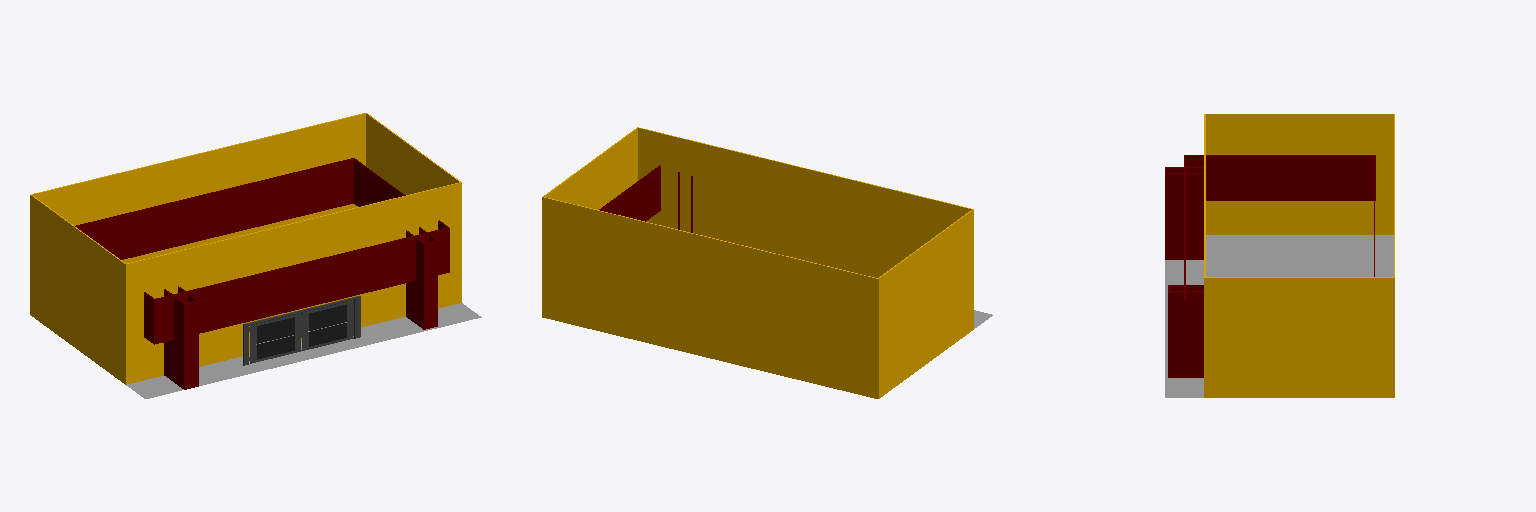
File: CGTI1.obj
The picture shows the model from 3 angles: view 1: azimuth 30°, elevation 25°; view 2: azimuth 150°, elevation 25°; view 3: azimuth 270°, elevation 25°; orthographic projection.
Parts seen in each view (by area): view 1: wall_2_11, wall_4_22, wall_3_17, wall_7_40, wall_5_29, ground_1, wall_1_4, wall_10_59, wall_6_35, sweethome3d_window_pa_sweethome3d_window_pa_Glass_119, sweethome3d_window_sweethome3d_window_Glass_121, wall_16_95 (+5 smaller); view 2: wall_4_23, wall_2_10, wall_3_17, wall_1_4, wall_6_35; view 3: wall_1_5, wall_3_16, ground_1, wall_8_47, wall_11_65, wall_18_107, wall_6_34, wall_12_71.
Boxes of the visible parts, x1=… form: wall_2_11: x1=126, y1=183, x2=461, y2=384; wall_4_22: x1=33, y1=113, x2=365, y2=263; wall_3_17: x1=30, y1=195, x2=125, y2=384; wall_7_40: x1=154, y1=228, x2=449, y2=344; wall_5_29: x1=75, y1=159, x2=353, y2=259; ground_1: x1=126, y1=303, x2=481, y2=398; wall_1_4: x1=366, y1=114, x2=458, y2=194; wall_10_59: x1=184, y1=301, x2=198, y2=389; wall_6_35: x1=354, y1=159, x2=446, y2=229; sweethome3d_window_pa_sweethome3d_window_pa_Glass_119: x1=309, y1=304, x2=346, y2=346; sweethome3d_window_sweethome3d_window_Glass_121: x1=257, y1=317, x2=294, y2=359; wall_16_95: x1=424, y1=241, x2=437, y2=329; wall_4_23: x1=542, y1=197, x2=877, y2=398; wall_2_10: x1=638, y1=128, x2=971, y2=277; wall_3_17: x1=878, y1=210, x2=973, y2=398; wall_1_4: x1=544, y1=128, x2=637, y2=209; wall_6_35: x1=600, y1=166, x2=660, y2=221; wall_1_5: x1=1204, y1=278, x2=1394, y2=397; wall_3_16: x1=1206, y1=114, x2=1393, y2=234; ground_1: x1=1165, y1=235, x2=1393, y2=397; wall_8_47: x1=1186, y1=156, x2=1375, y2=200; wall_11_65: x1=1165, y1=174, x2=1203, y2=259; wall_18_107: x1=1168, y1=292, x2=1203, y2=377; wall_6_34: x1=1184, y1=299, x2=1203, y2=343; wall_12_71: x1=1165, y1=174, x2=1203, y2=259.
Size of the model in its own units: 2048 by 700 by 1218.